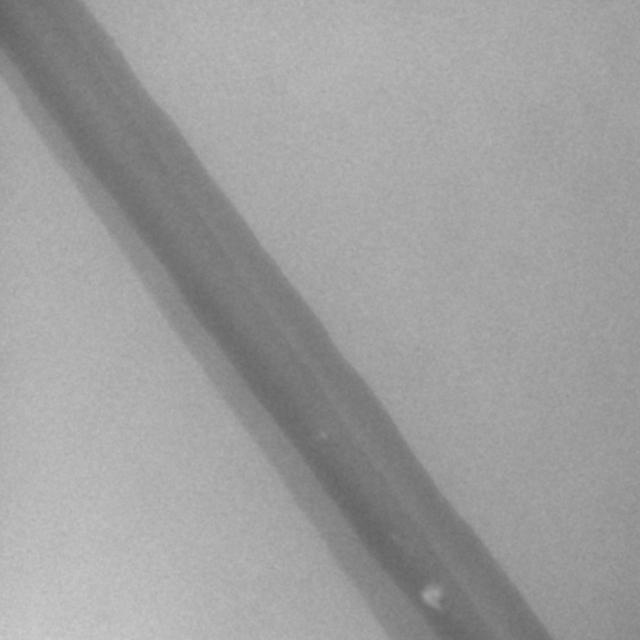slag inclusion: (421, 585, 443, 612)
